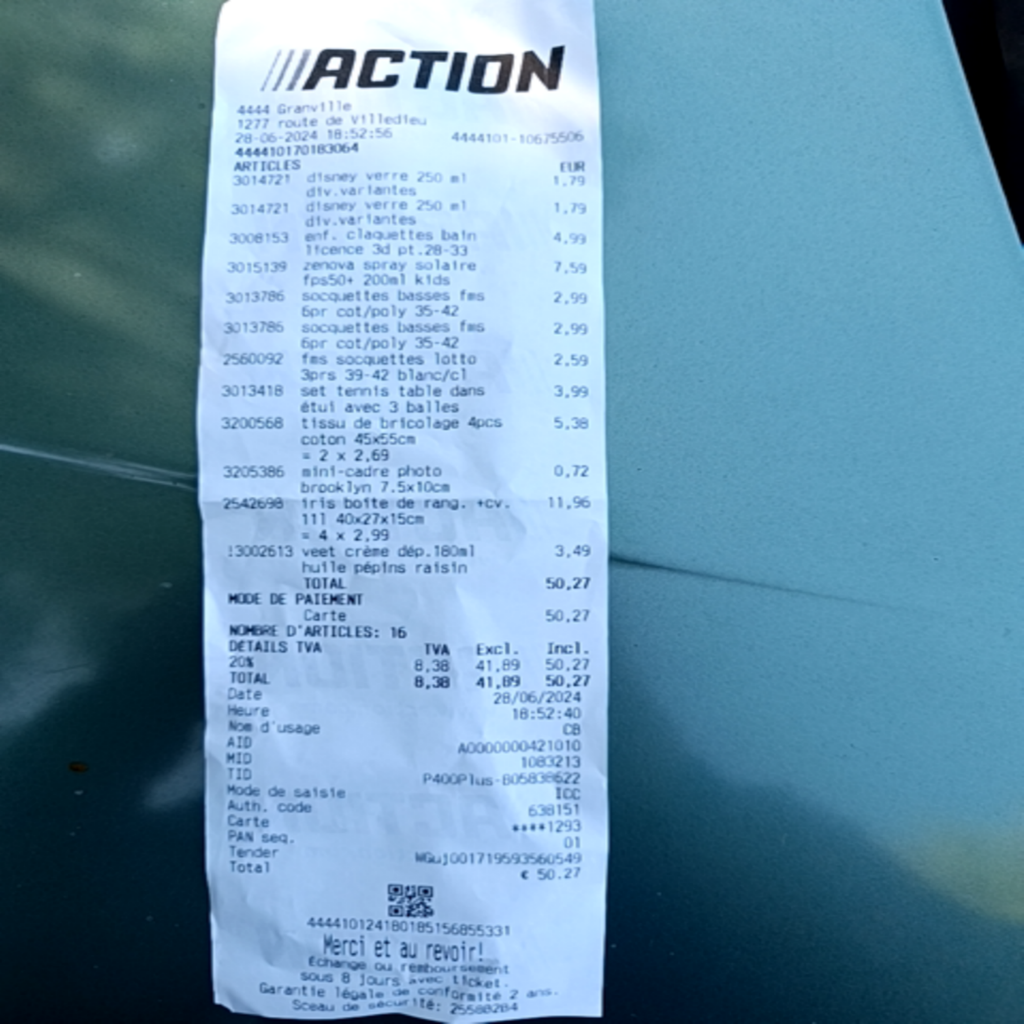recipt: (199, 0, 608, 1022)
